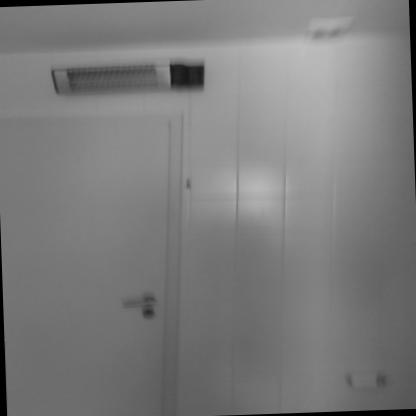closed: (0, 103, 210, 416)
